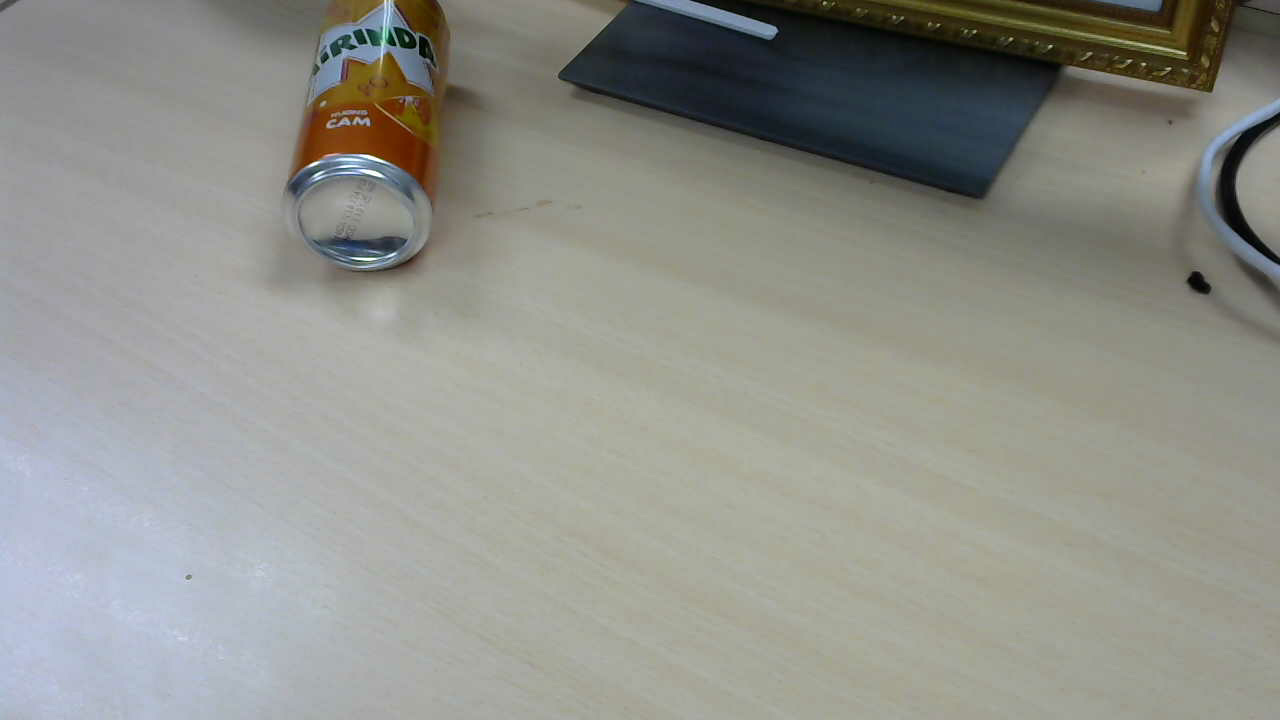Mirinda: (287, 7, 464, 277)
